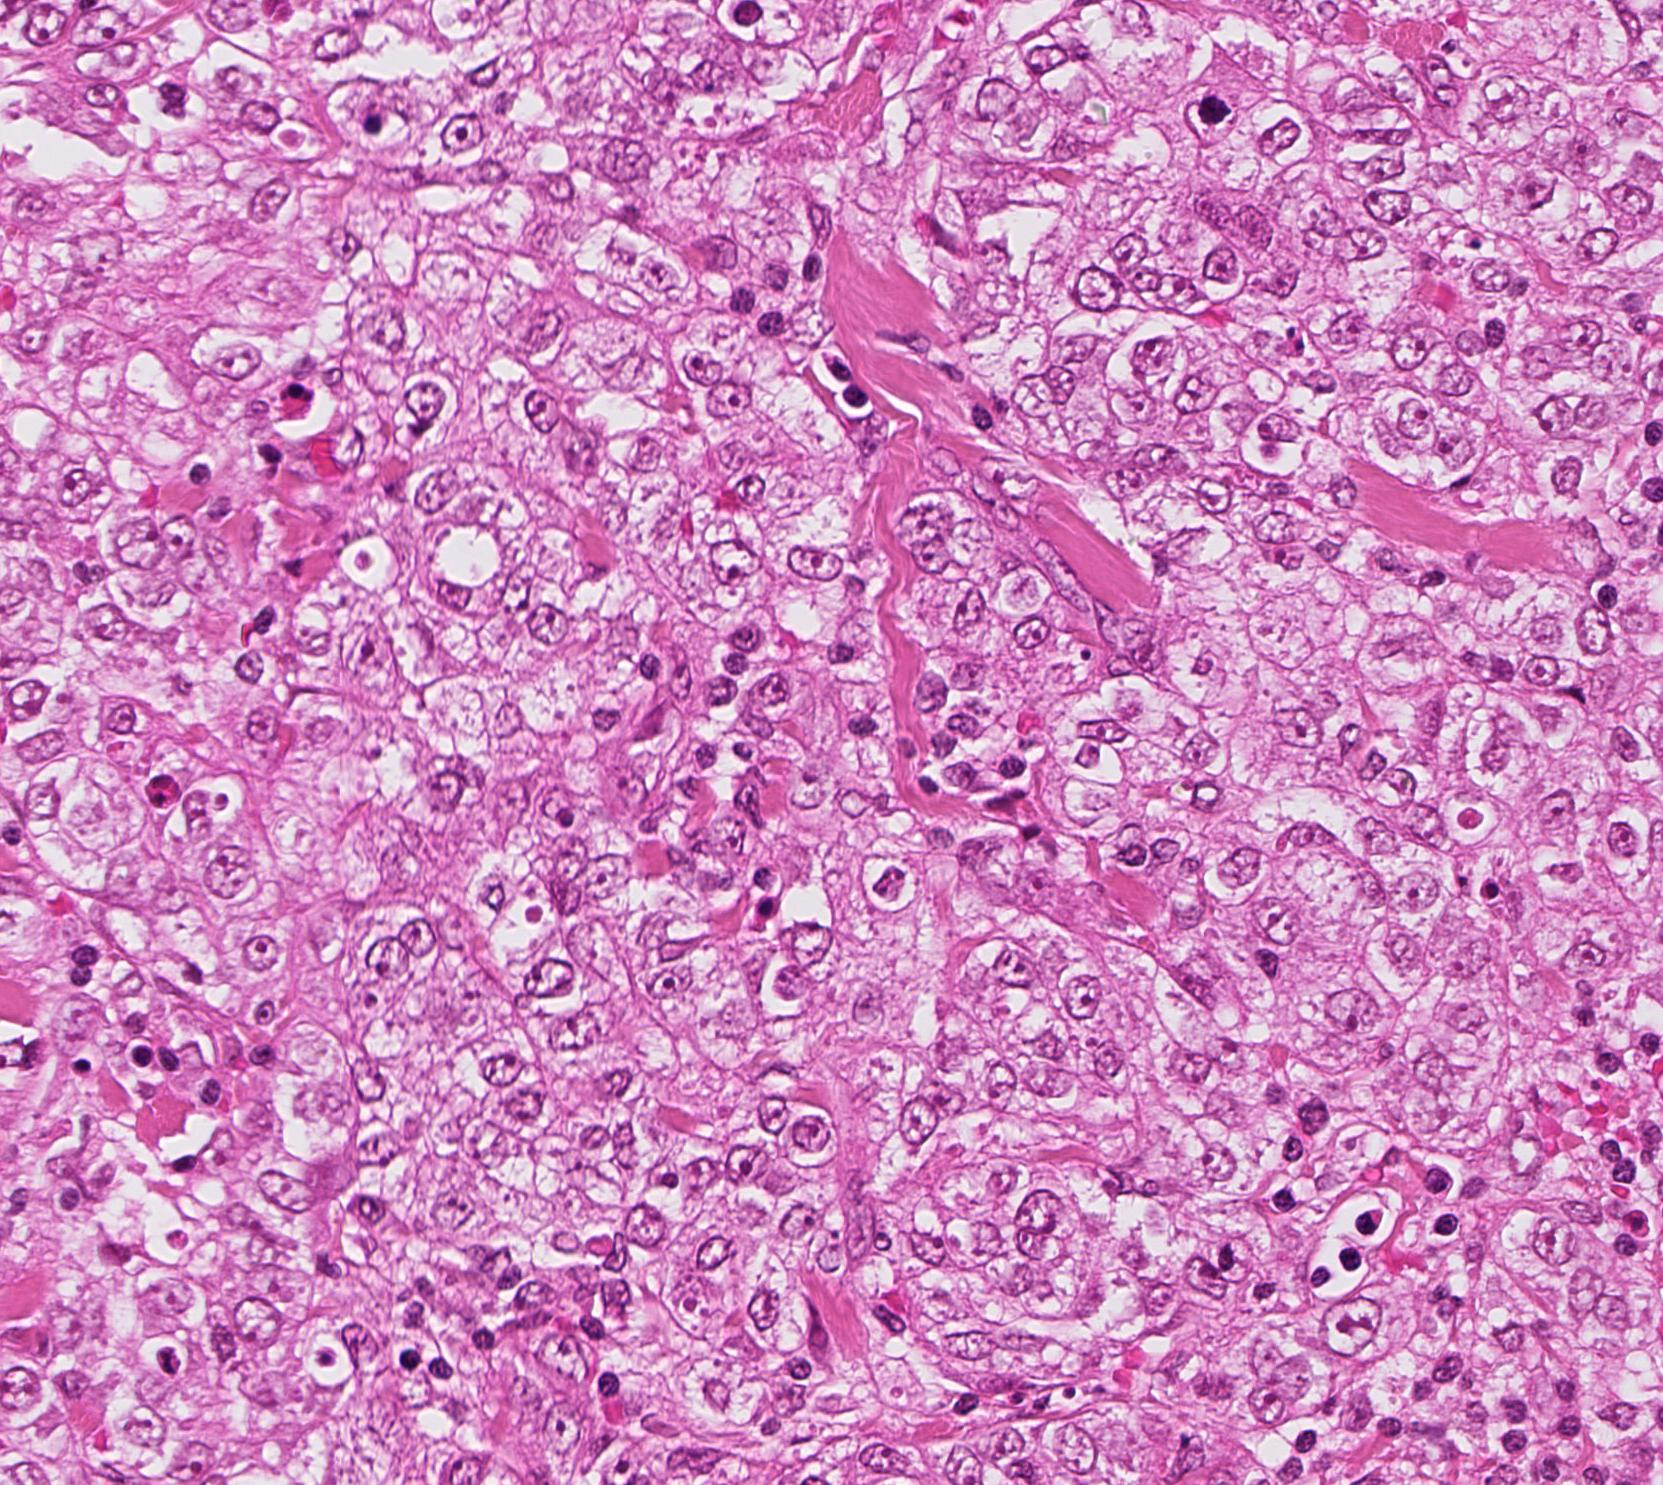mitosis: (1173, 79, 1233, 139)
